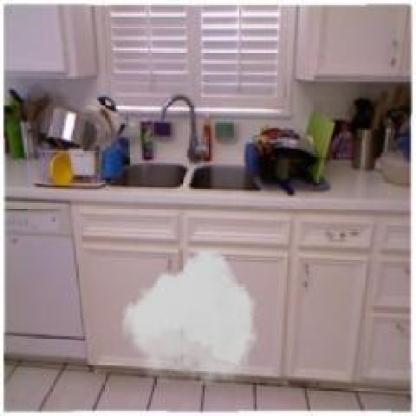Smoke: (123, 249, 258, 384)
